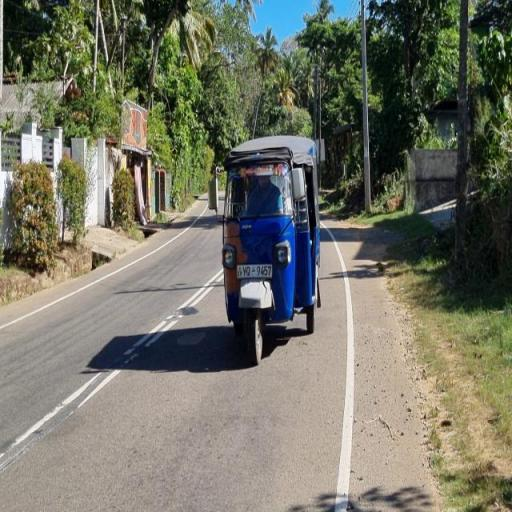double_white_line: (0, 268, 224, 474)
